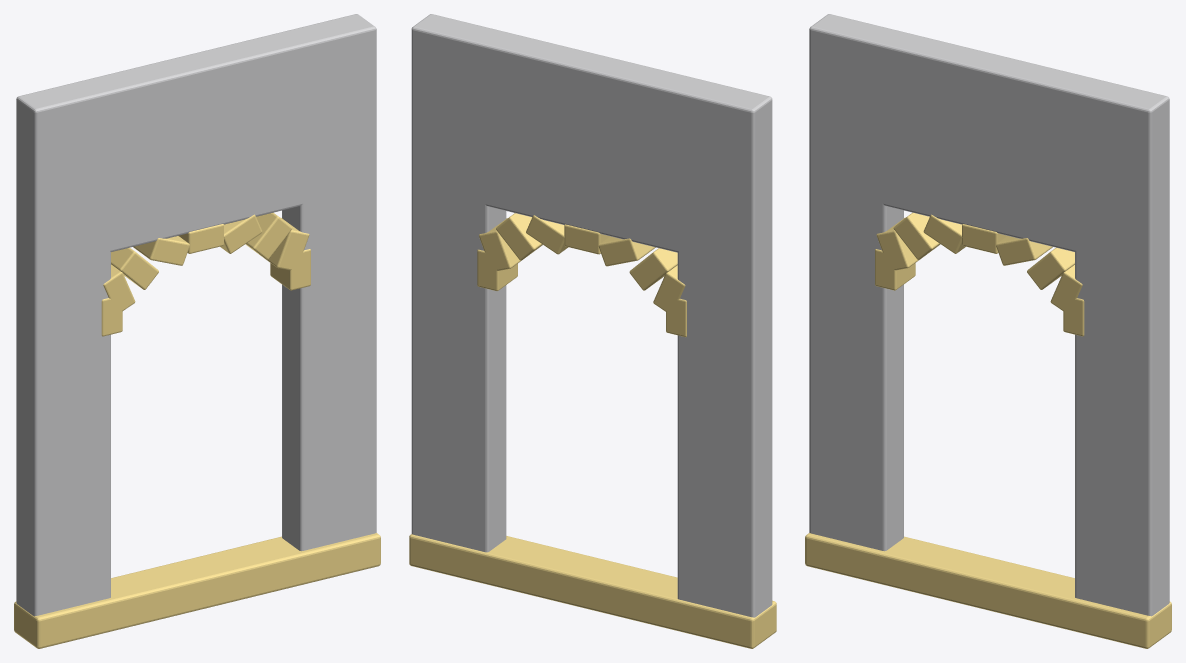
The model's file is fx_arch.glb.
The picture shows the model from 3 angles, left to right: view 1: azimuth 30°, elevation 25°; view 2: azimuth 150°, elevation 25°; view 3: azimuth 330°, elevation 25°; orthographic projection.
Parts seen in each view (by area): view 1: fx_arch; view 2: fx_arch; view 3: fx_arch.
Part boxes in pixels (box(x1,y1,x2,y2)): fx_arch: box(14, 14, 380, 648); fx_arch: box(409, 14, 776, 648); fx_arch: box(805, 14, 1171, 648).
Bounding box in the file's own units: 4.02 × 6 × 0.5.
